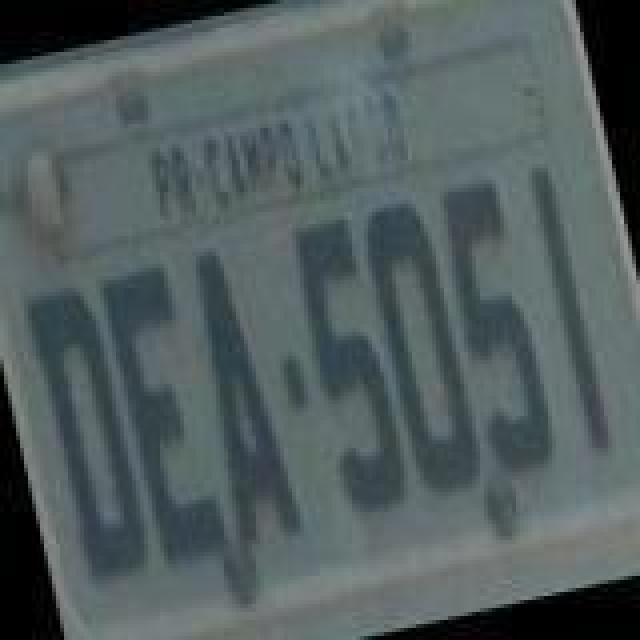1: (520, 152, 616, 456)
5: (426, 170, 566, 486), (284, 204, 420, 524)
A: (172, 236, 308, 556)
D: (18, 280, 158, 592)
E: (96, 262, 232, 570)
O: (356, 190, 492, 498)
